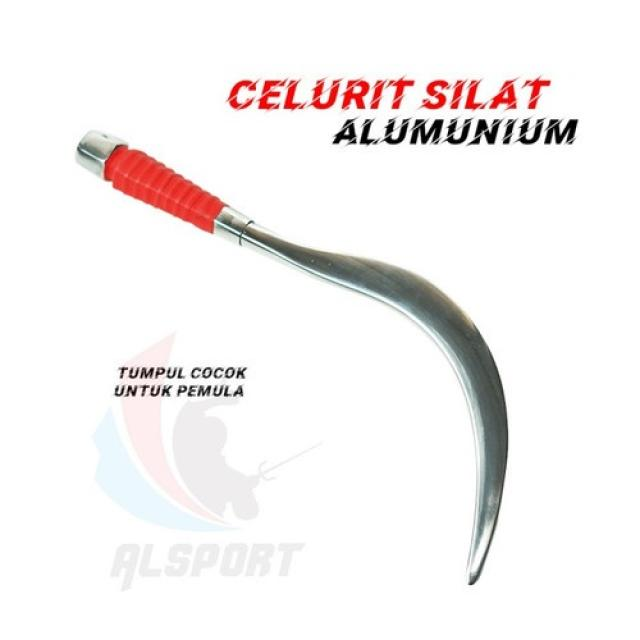Celurit: (74, 127, 512, 589)
